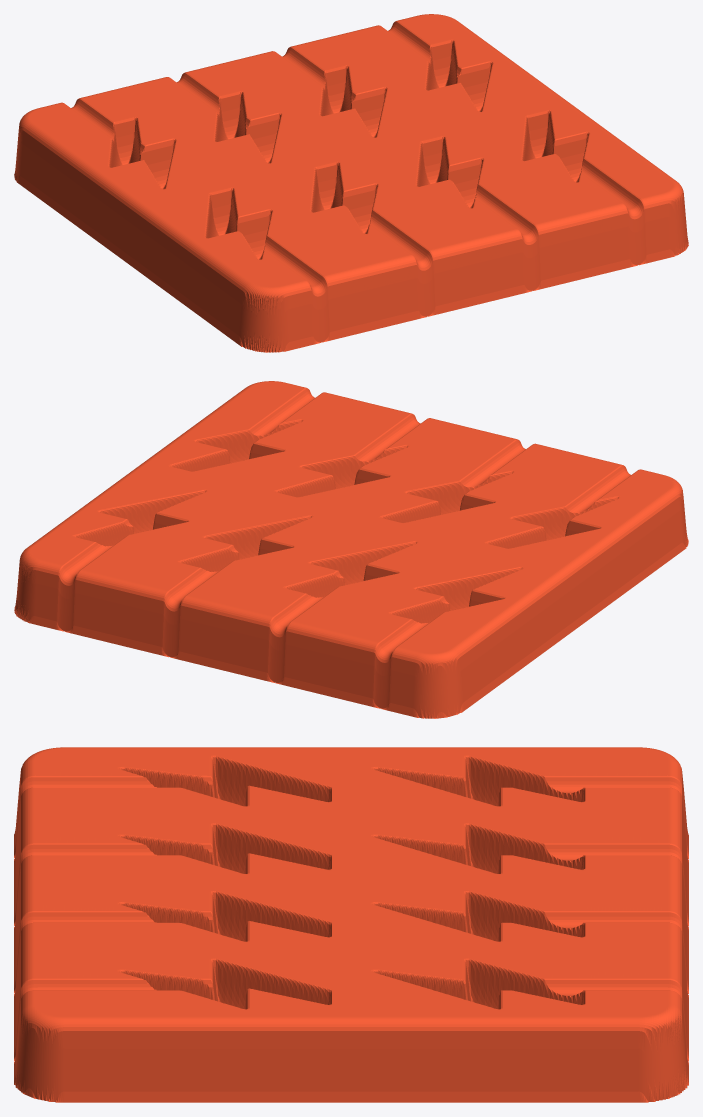
Rendered from mold.glb.
3 renders of one model, top to bottom at view 1: azimuth 30°, elevation 25°; view 2: azimuth 150°, elevation 25°; view 3: azimuth 270°, elevation 25°, orthographic. The views are drawn at different scales.
Visible parts, largest first — view 1: geometry_0; view 2: geometry_0; view 3: geometry_0.
Part boxes in pixels (bbox=[...]): geometry_0: bbox=[14, 14, 688, 352]; geometry_0: bbox=[14, 381, 688, 718]; geometry_0: bbox=[14, 747, 688, 1102].
Size of the model in its own units: 0.1229 by 0.0155 by 0.1229.
